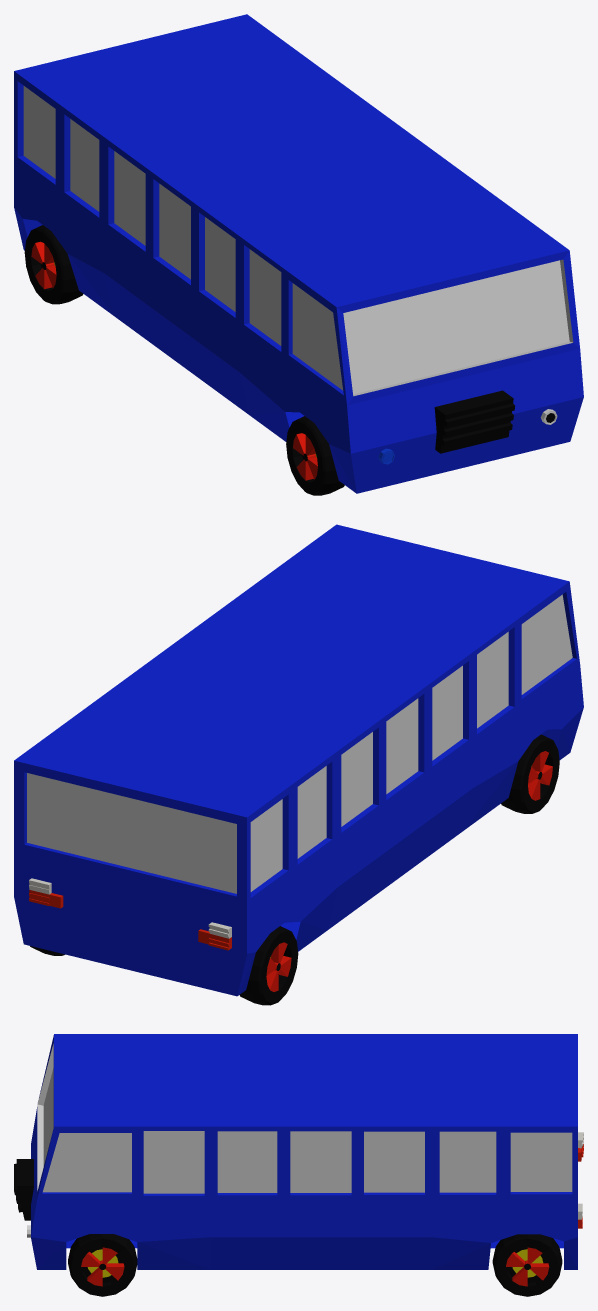
The model's file is BUS.dae.
3 views of the same model, one above another, from view 1: azimuth 30°, elevation 25°; view 2: azimuth 150°, elevation 25°; view 3: azimuth 270°, elevation 25° (orthographic). The views are drawn at different scales.
Visible parts, largest first — view 1: Cube, Cube_001, Cylinder_004, Cylinder_004_001; view 2: Cube, Cylinder_004_001, Cylinder_004, Cube_002; view 3: Cube, Cylinder_002, Cylinder_002_001, Cube_001.
Boxes of the visible parts, x1,y1,x2,y2 form: Cube: (14, 14, 583, 493); Cube_001: (434, 390, 514, 453); Cylinder_004: (286, 416, 344, 495); Cylinder_004_001: (24, 225, 83, 304); Cube: (14, 524, 583, 996); Cylinder_004_001: (239, 926, 298, 1005); Cylinder_004: (501, 734, 559, 813); Cube_002: (29, 878, 231, 950); Cube: (31, 1034, 577, 1269); Cylinder_002: (68, 1234, 137, 1296); Cylinder_002_001: (492, 1234, 562, 1296); Cube_001: (14, 1159, 33, 1220).
Size of the model in its own units: 7.74 by 19.85 by 6.59.
